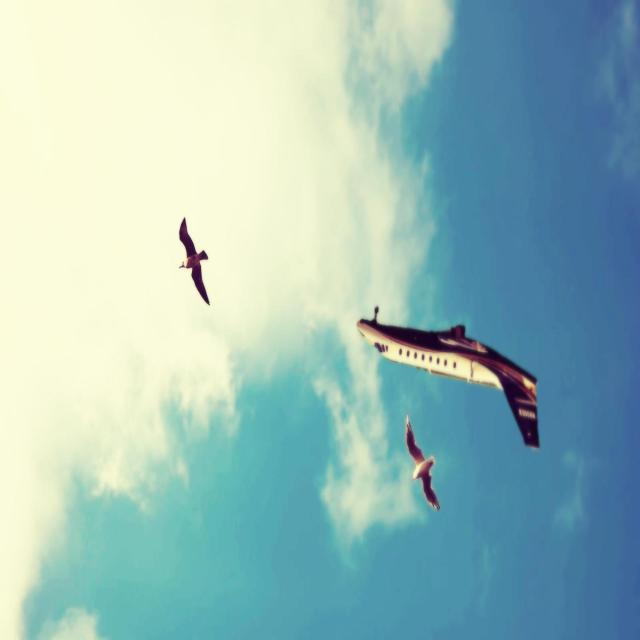airplane: (356, 305, 540, 449)
